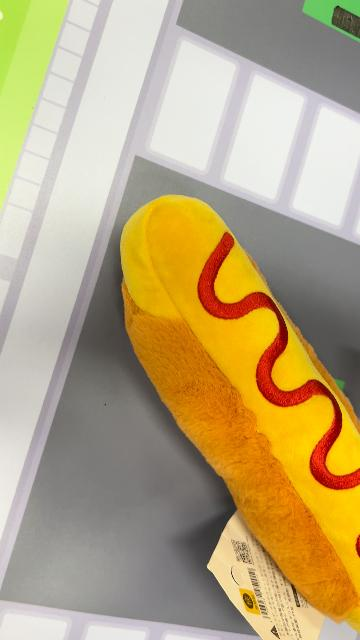hotdog: (119, 194, 359, 630)
